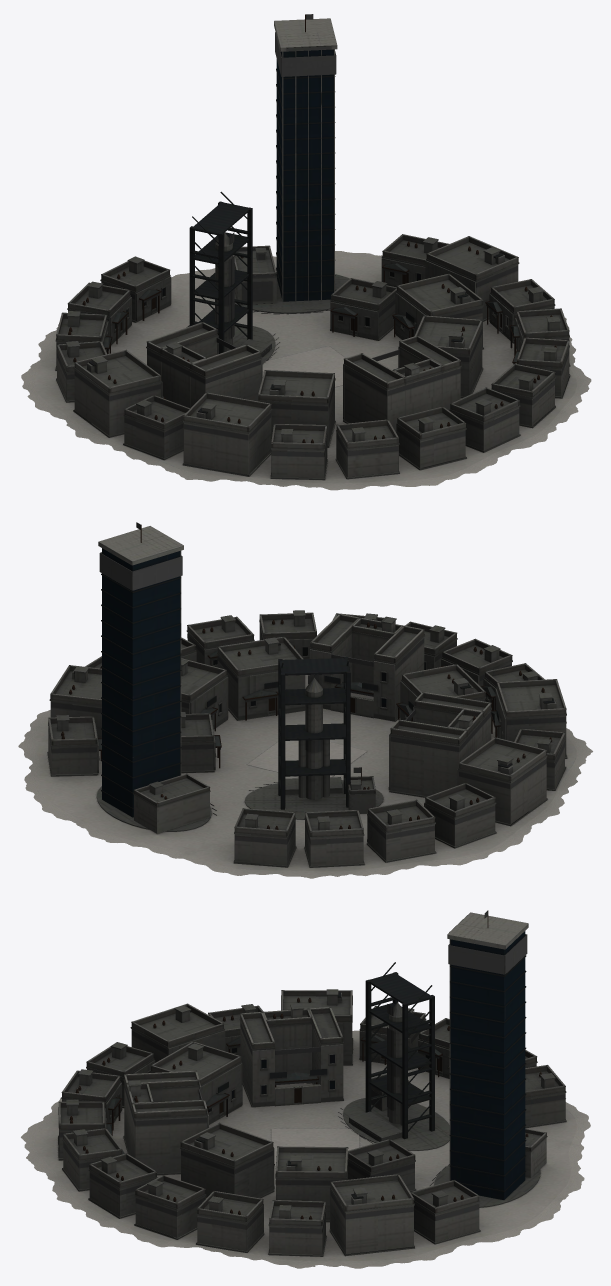
The model's file is modern-town-big-b-steppe-21d7c508.glb.
3 views of the same model, one above another, from view 1: azimuth 30°, elevation 25°; view 2: azimuth 150°, elevation 25°; view 3: azimuth 270°, elevation 25° (orthographic).
Parts seen in each view (by area): view 1: LOD0; view 2: LOD0; view 3: LOD0.
Part boxes in pixels (x1=…): LOD0: x1=21, y1=14, x2=591, y2=490; LOD0: x1=18, y1=522, x2=592, y2=878; LOD0: x1=21, y1=910, x2=590, y2=1268.
Size of what is drawn, in the model's own units: 7.9 by 4.2 by 7.99.
Materials: 3 (3 with a texture image).
